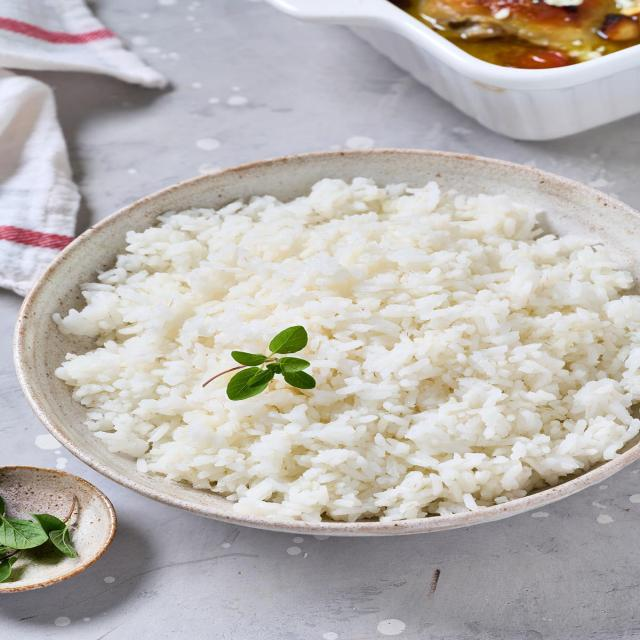rice: (61, 174, 640, 518)
